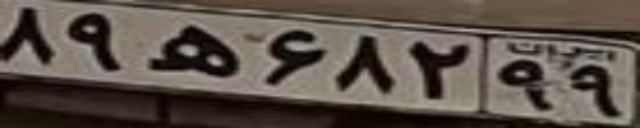2: (408, 40, 470, 99)
6: (262, 29, 325, 88)
8: (335, 35, 396, 94), (1, 5, 55, 66)
9: (65, 11, 123, 71), (567, 64, 621, 118), (496, 58, 551, 111)
he: (151, 23, 240, 78)
